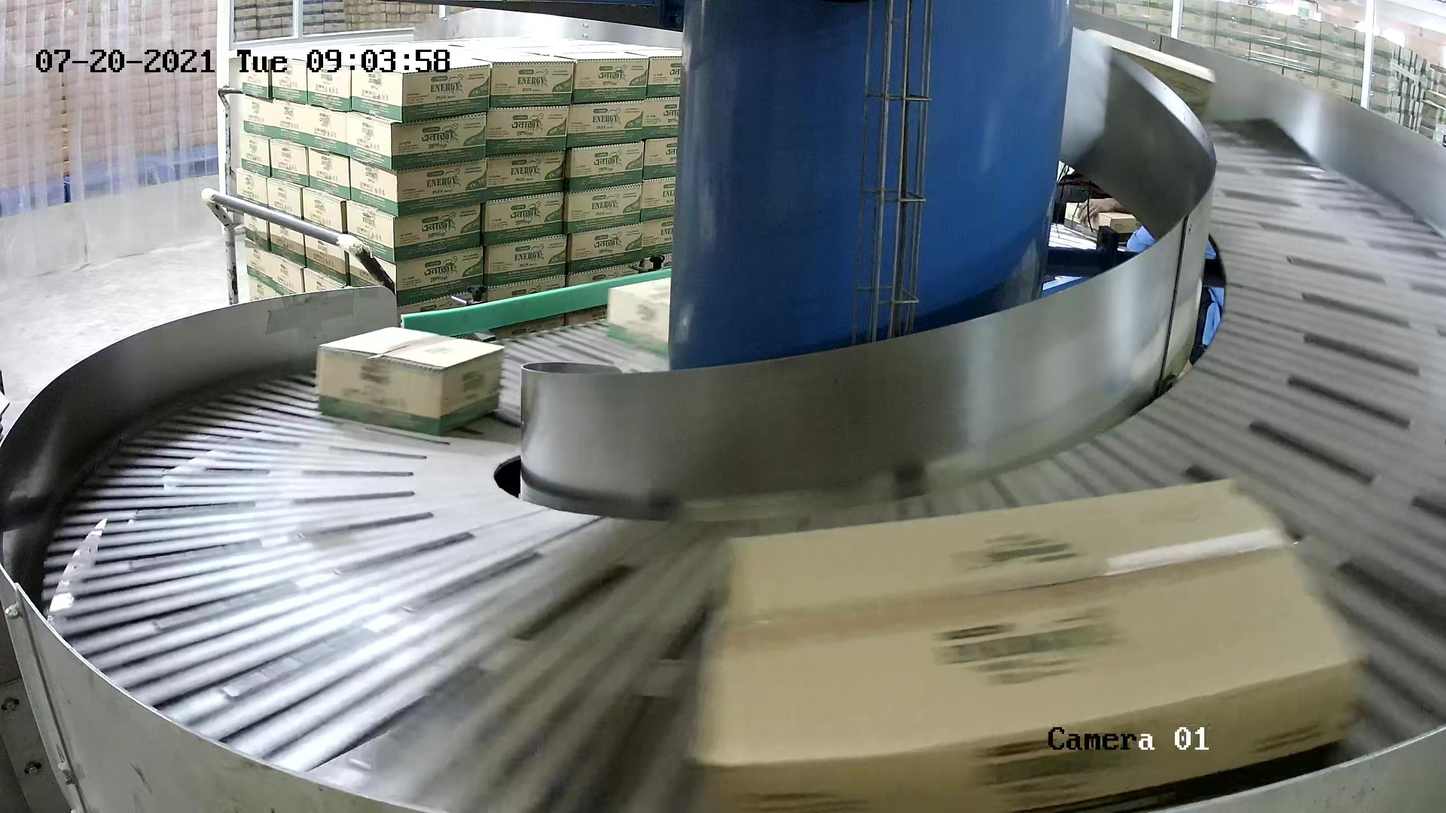Box: (688, 477, 1362, 813), (315, 325, 505, 437), (607, 263, 766, 366)
